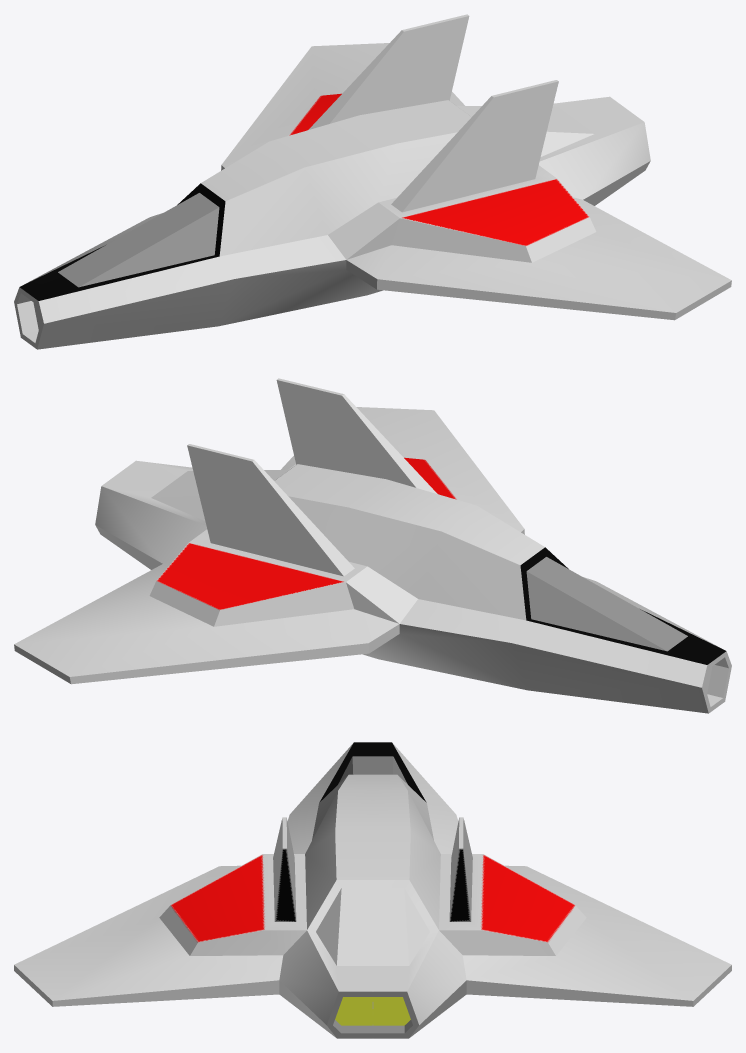
The model's file is SpaceShip.obj.
3 views of the same model, one above another, from view 1: azimuth 30°, elevation 25°; view 2: azimuth 150°, elevation 25°; view 3: azimuth 270°, elevation 25° (orthographic).
Bounding box in the file's own units: 89.26 × 25.81 × 94.19.
Materials: 1 (1 with a texture image).
